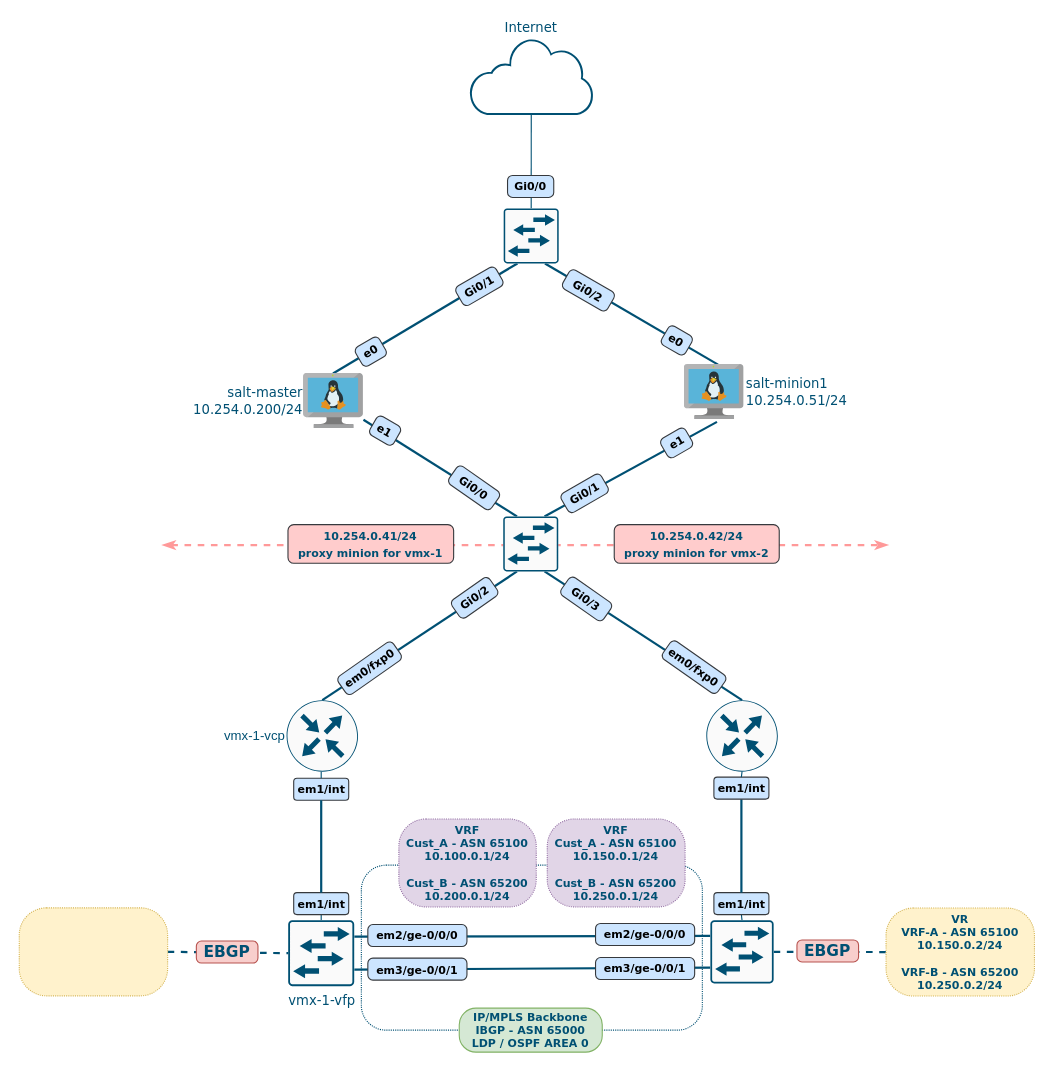
This 1054x1071 diagram has some shape labels left out. The box of each missing label's shape, as (x1, y1, x2, y2) in pixels:
sw-1: (503, 207, 559, 263)
sw-2: (502, 515, 558, 571)
vmx-2-vcp: (705, 699, 778, 772)
vmx-2-vfp: (709, 919, 774, 983)
VR VRF-A - ASN 65100 10.100.0.2/24 VRF-B - ASN 65200 10.200.0.2/24: (18, 907, 168, 996)
